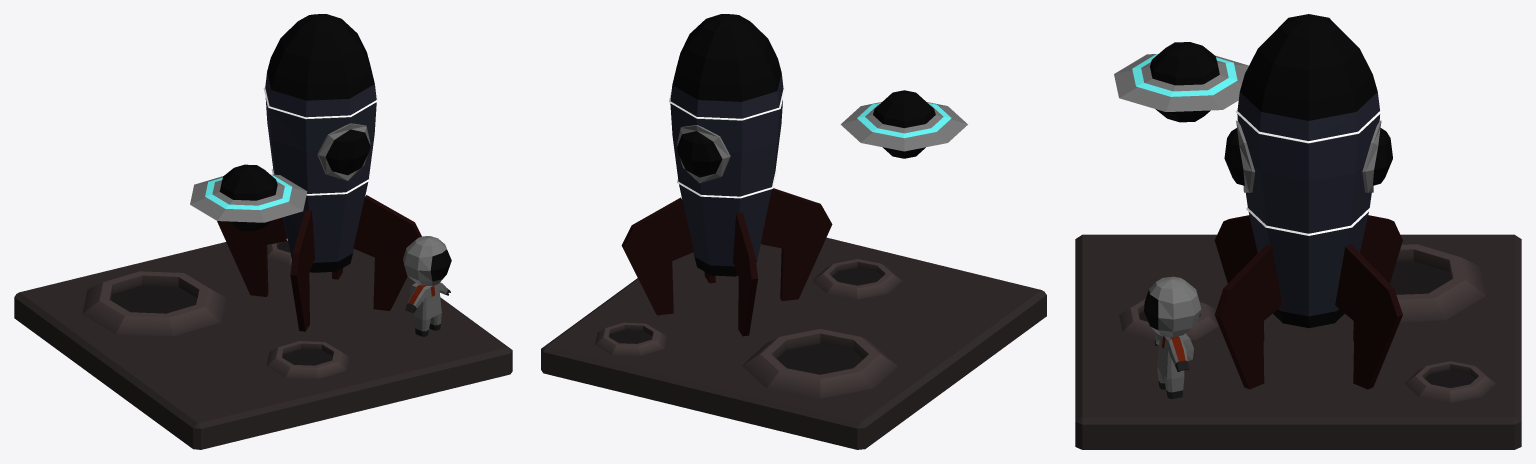
The model's file is W_O_Playground_SpaceSymbolic_001_L1.fbx.
3 renders of one model, left to right at view 1: azimuth 30°, elevation 25°; view 2: azimuth 150°, elevation 25°; view 3: azimuth 270°, elevation 25°, orthographic. The views are drawn at different scales.
Visible parts, largest first — view 1: W_O_Playground_SpaceSymbolic_001_L1; view 2: W_O_Playground_SpaceSymbolic_001_L1; view 3: W_O_Playground_SpaceSymbolic_001_L1.
Part boxes in pixels (x1,y1,x2,y2): W_O_Playground_SpaceSymbolic_001_L1: (14, 14, 512, 449); W_O_Playground_SpaceSymbolic_001_L1: (541, 14, 1046, 449); W_O_Playground_SpaceSymbolic_001_L1: (1075, 14, 1521, 449).
Bounding box in the file's own units: 2 × 1.85 × 2.
